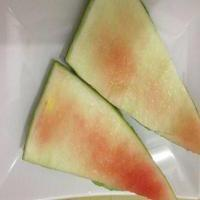biodegradable: (22, 60, 179, 200), (63, 0, 200, 156)
